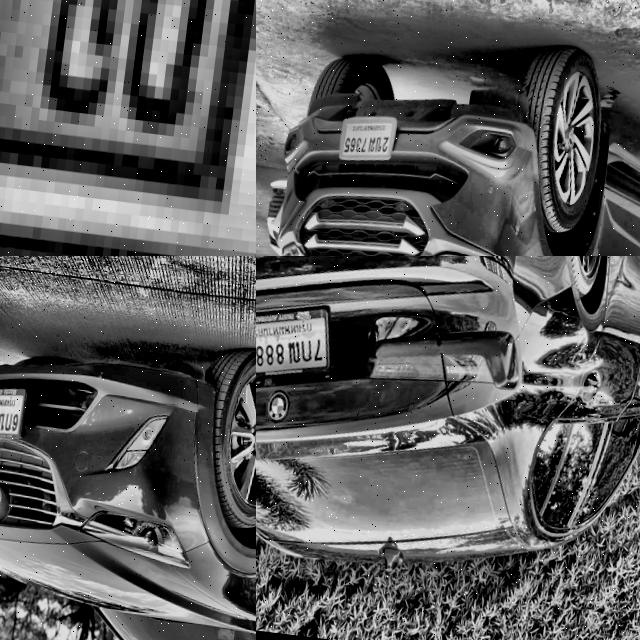license-plate: (0, 0, 256, 256), (256, 294, 337, 387), (336, 106, 399, 168), (0, 381, 27, 445)
